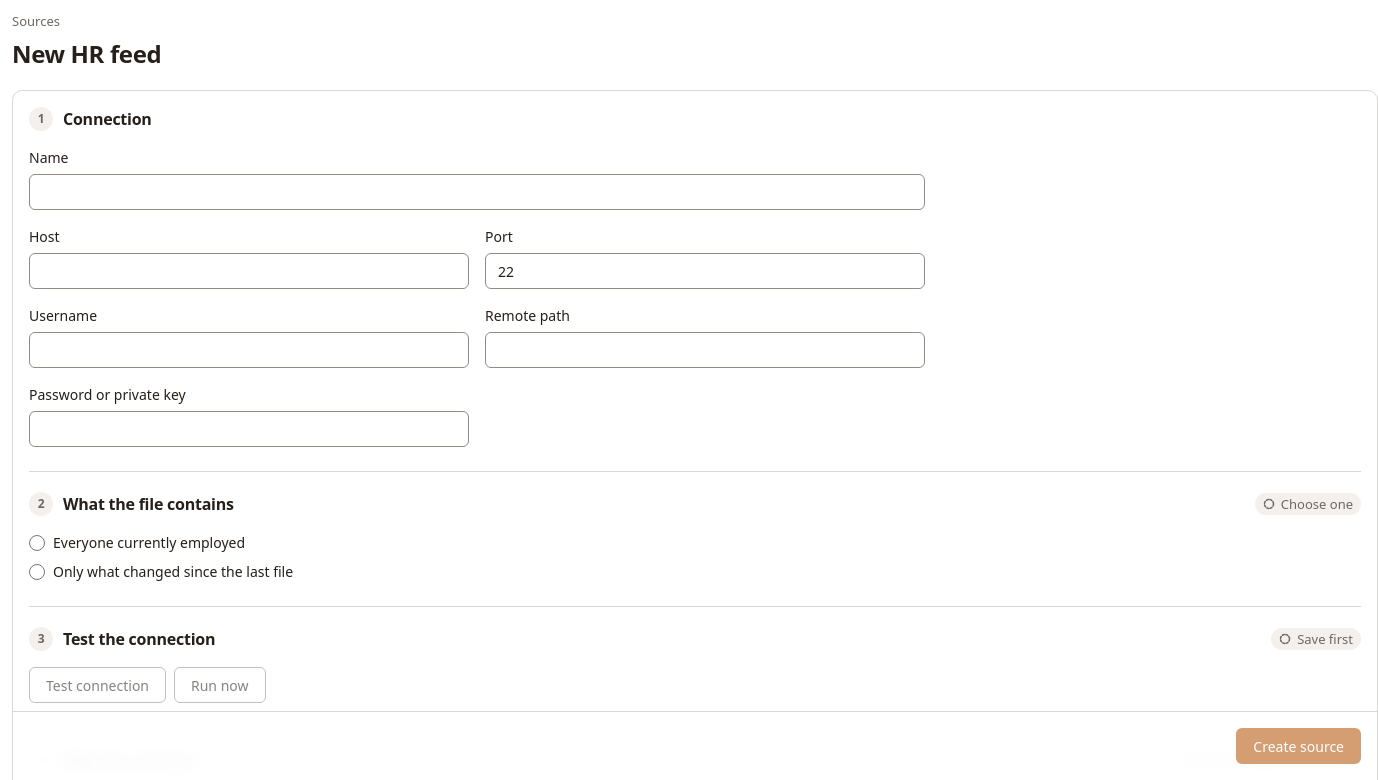
Test: choosing what the file contains › warns about leavers only while a snapshot is chosen
Click the radio button labelled "Everyone currently employed" at x=37, y=543, box [29, 535, 45, 551]
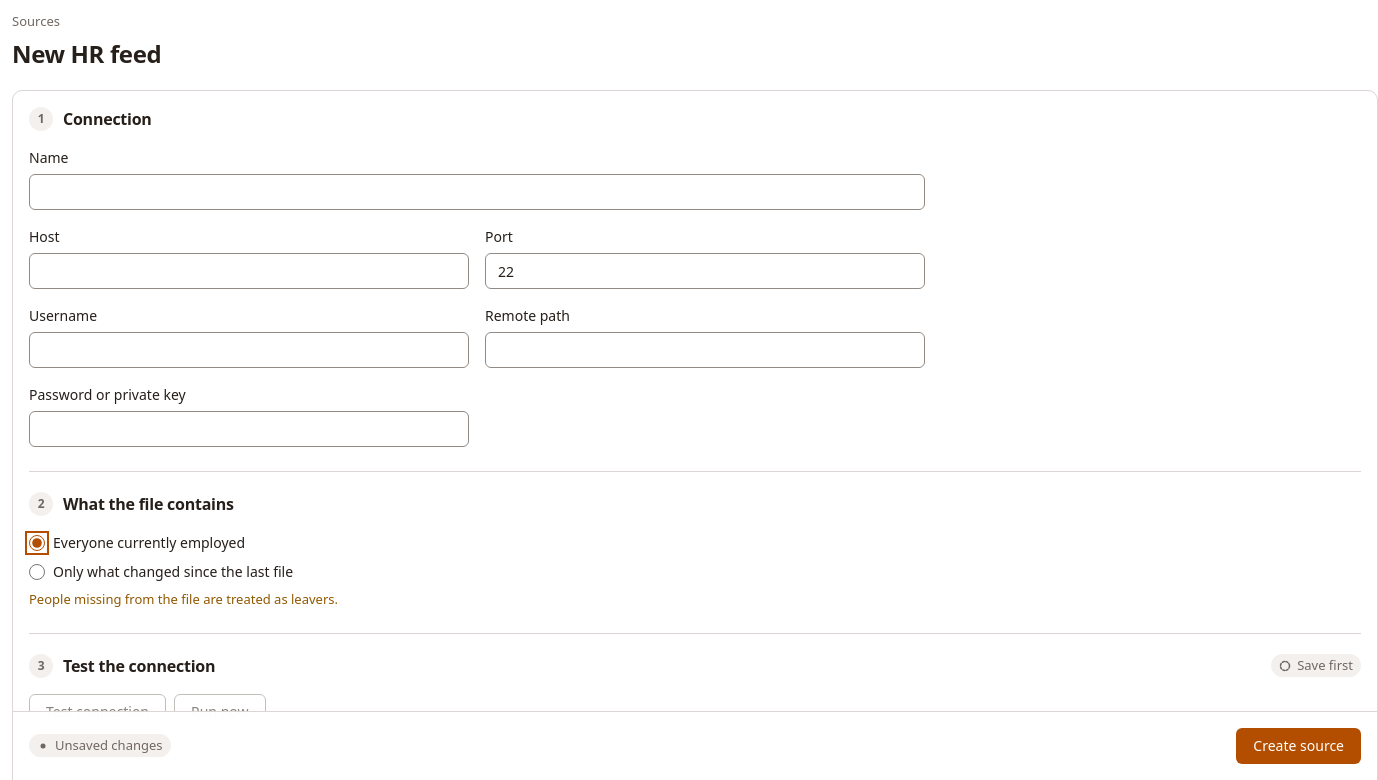
Expected: the text "People missing from the file are treated as leavers." is shown, [29, 590, 338, 608]
Click the radio button labelled "Only what changed since the last file" at x=37, y=572, box [29, 564, 45, 580]
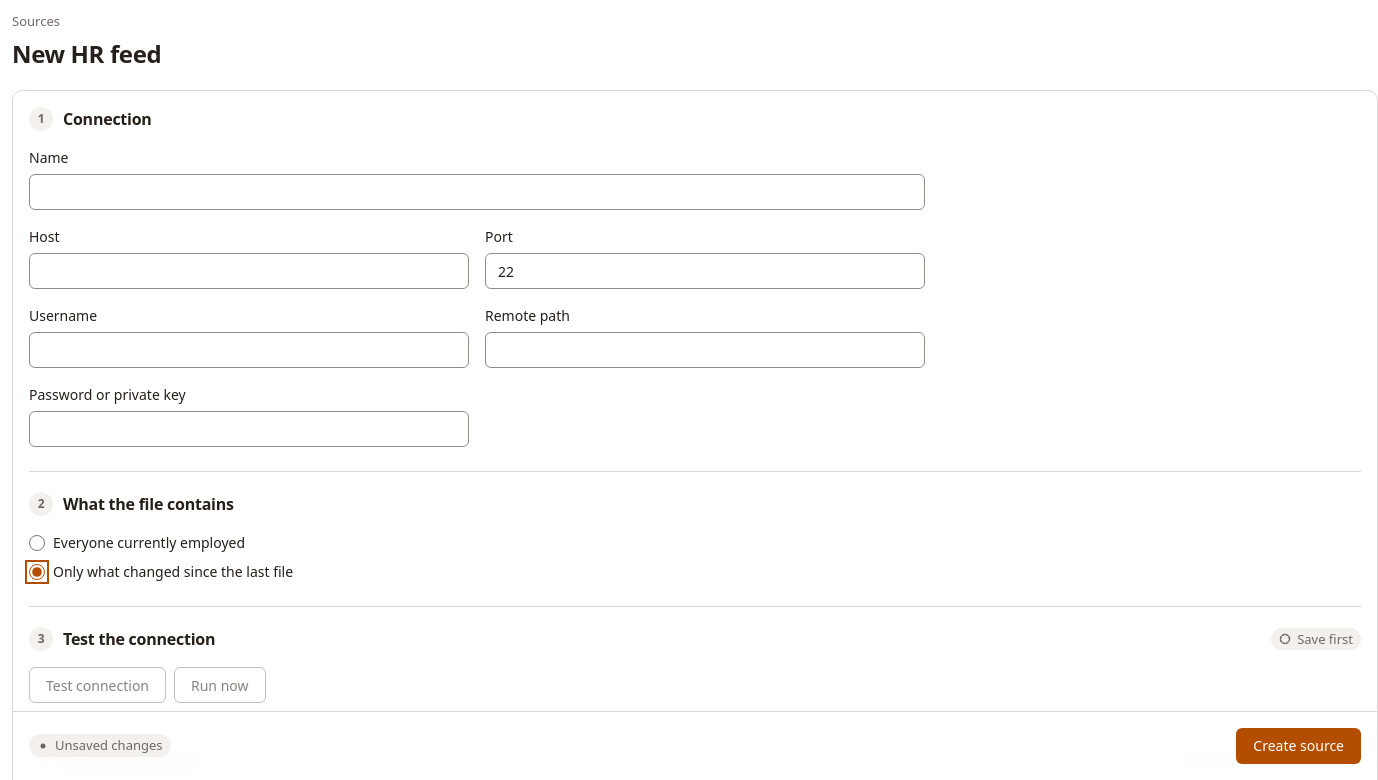
Expected: the text "treated as leavers" is gone
